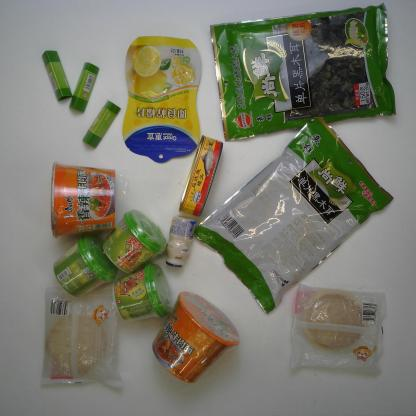Canned Food: (172, 131, 227, 220)
Dessert: (36, 281, 130, 394), (286, 280, 388, 377)
Dried Food: (192, 111, 396, 317), (208, 1, 400, 143)
Dried Fruit: (118, 32, 206, 167)
Instant Drink: (100, 206, 170, 276), (50, 231, 119, 300), (109, 260, 176, 325)
Instant Noodles: (149, 288, 243, 388), (46, 159, 120, 240)
Milk: (162, 214, 198, 270)
Stationery: (80, 98, 123, 150), (37, 48, 76, 104), (66, 60, 100, 115)
